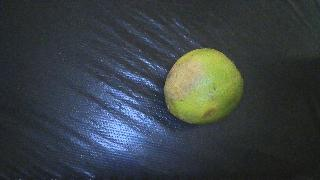DESECHO: (164, 48, 244, 124)
